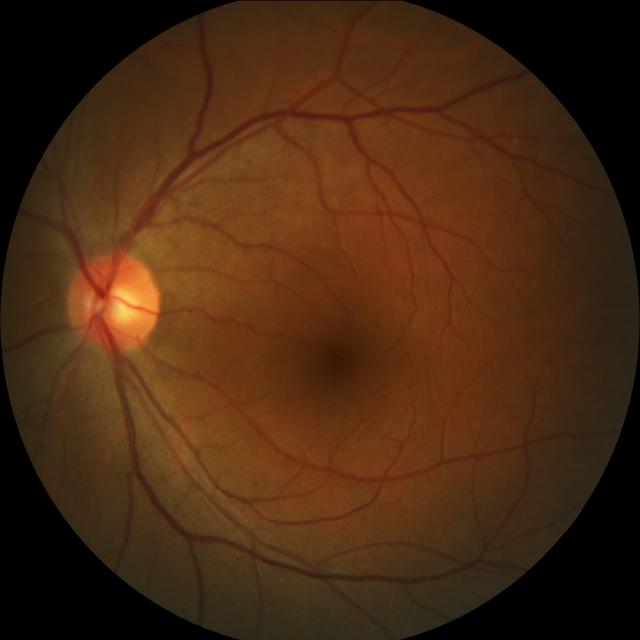OC: (91, 277, 140, 328)
OD: (64, 249, 158, 354)
